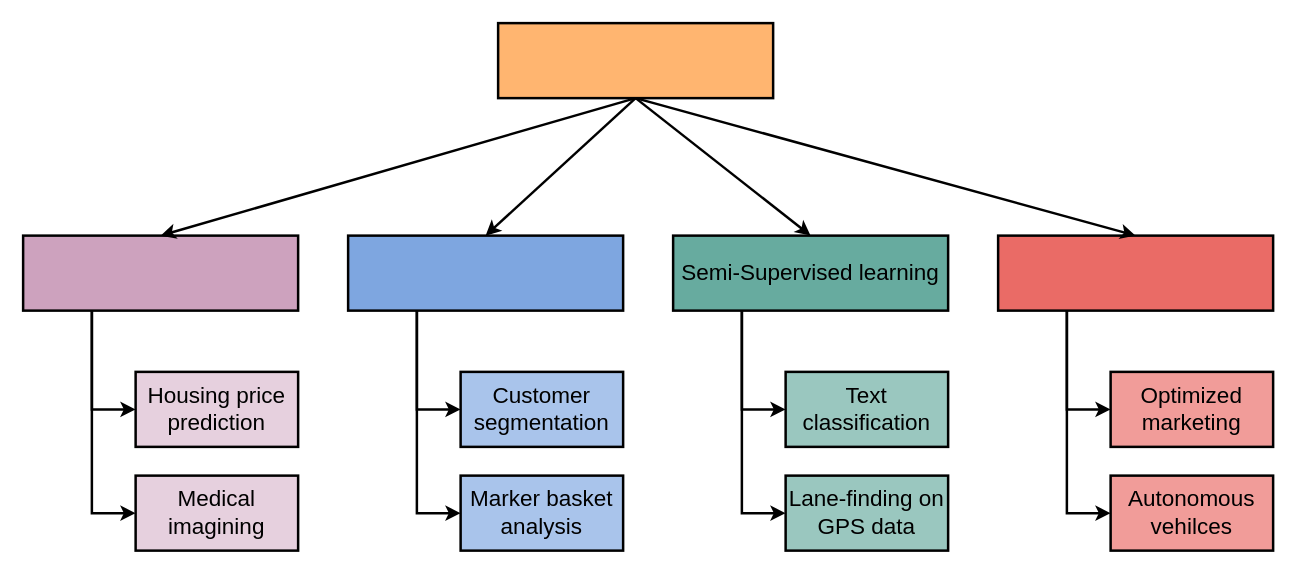
The diagram is 1295 pixels wide and 573 high, and some of its shapes have lost their labels. Each missing label, with the centre of its shape:
"Machine Learning" goes at point (635, 60).
"Reinforcement Learning" goes at point (1135, 272).
"Supervised learning" goes at point (160, 272).
"Unsupervised learning" goes at point (485, 272).
